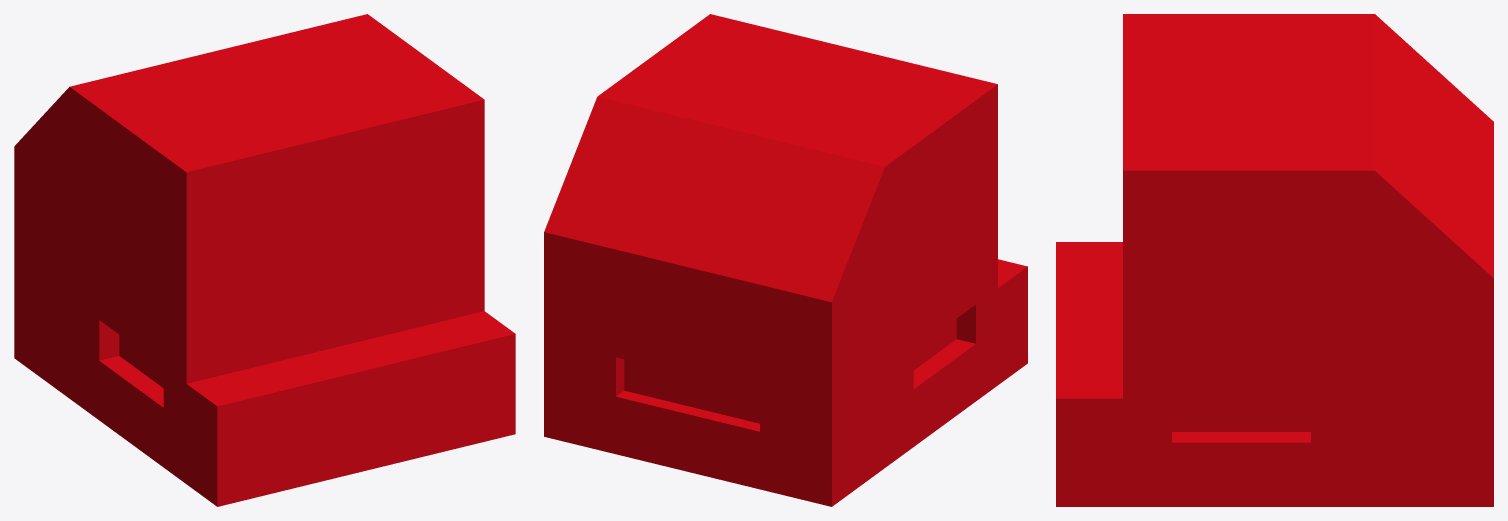
Rendered from komono12.fbx.
The picture shows the model from 3 angles, left to right: view 1: azimuth 30°, elevation 25°; view 2: azimuth 150°, elevation 25°; view 3: azimuth 270°, elevation 25°; orthographic projection. The views are drawn at different scales.
Visible parts, largest first — view 1: Cube.013; view 2: Cube.013; view 3: Cube.013.
Part boxes in pixels (x1,y1,x2,y2): Cube.013: [14, 14, 515, 506]; Cube.013: [544, 14, 1027, 506]; Cube.013: [1056, 14, 1493, 506].
Bounding box in the file's own units: 76.69 × 76.69 × 90.49.
